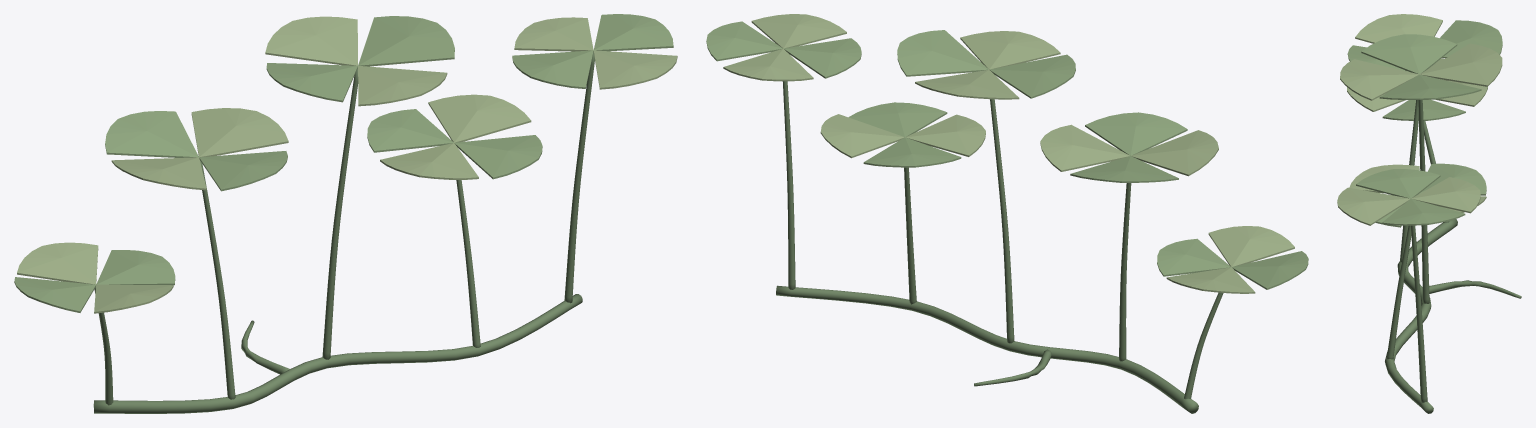
Rendered from marsilea.glb.
The picture shows the model from 3 angles, left to right: view 1: azimuth 30°, elevation 25°; view 2: azimuth 150°, elevation 25°; view 3: azimuth 270°, elevation 25°; orthographic projection. The views are drawn at different scales.
Parts seen in each view (by area): view 1: four-separate-fan-leaflets-per-frond-no-flowers, slender-bent-petioles-connected-to-creeping-axis, creeping-branched-rhizome-modern-genus-analogy; view 2: four-separate-fan-leaflets-per-frond-no-flowers, slender-bent-petioles-connected-to-creeping-axis, creeping-branched-rhizome-modern-genus-analogy; view 3: four-separate-fan-leaflets-per-frond-no-flowers, slender-bent-petioles-connected-to-creeping-axis, creeping-branched-rhizome-modern-genus-analogy.
Boxes of the visible parts, x1,y1,x2,y2 form: four-separate-fan-leaflets-per-frond-no-flowers: (14,14,677,313); slender-bent-petioles-connected-to-creeping-axis: (94,52,594,405); creeping-branched-rhizome-modern-genus-analogy: (93,294,582,413); four-separate-fan-leaflets-per-frond-no-flowers: (706,14,1308,293); slender-bent-petioles-connected-to-creeping-axis: (782,81,1223,399); creeping-branched-rhizome-modern-genus-analogy: (776,285,1198,413); four-separate-fan-leaflets-per-frond-no-flowers: (1337,14,1502,227); slender-bent-petioles-connected-to-creeping-axis: (1386,100,1449,402); creeping-branched-rhizome-modern-genus-analogy: (1385,219,1521,413).
Size of the model in its own units: 0.18 by 0.0849 by 0.0539.
